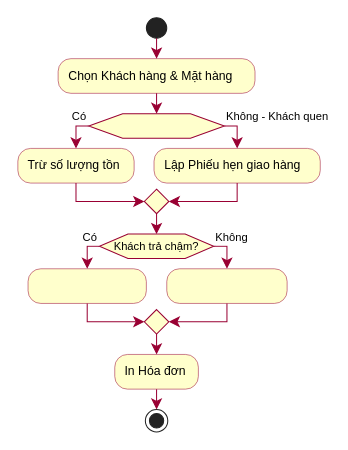
Image size: 348x450. Some labels were removed from this diagram. The centre of each missing label's shape, as x and y in pixels:
"Có đủ hàng tồn kho?" goes at [156,125].
"Lập Phiếu ghi nợ" goes at [86,285].
"Thanh toán ngay" goes at [226,285].
